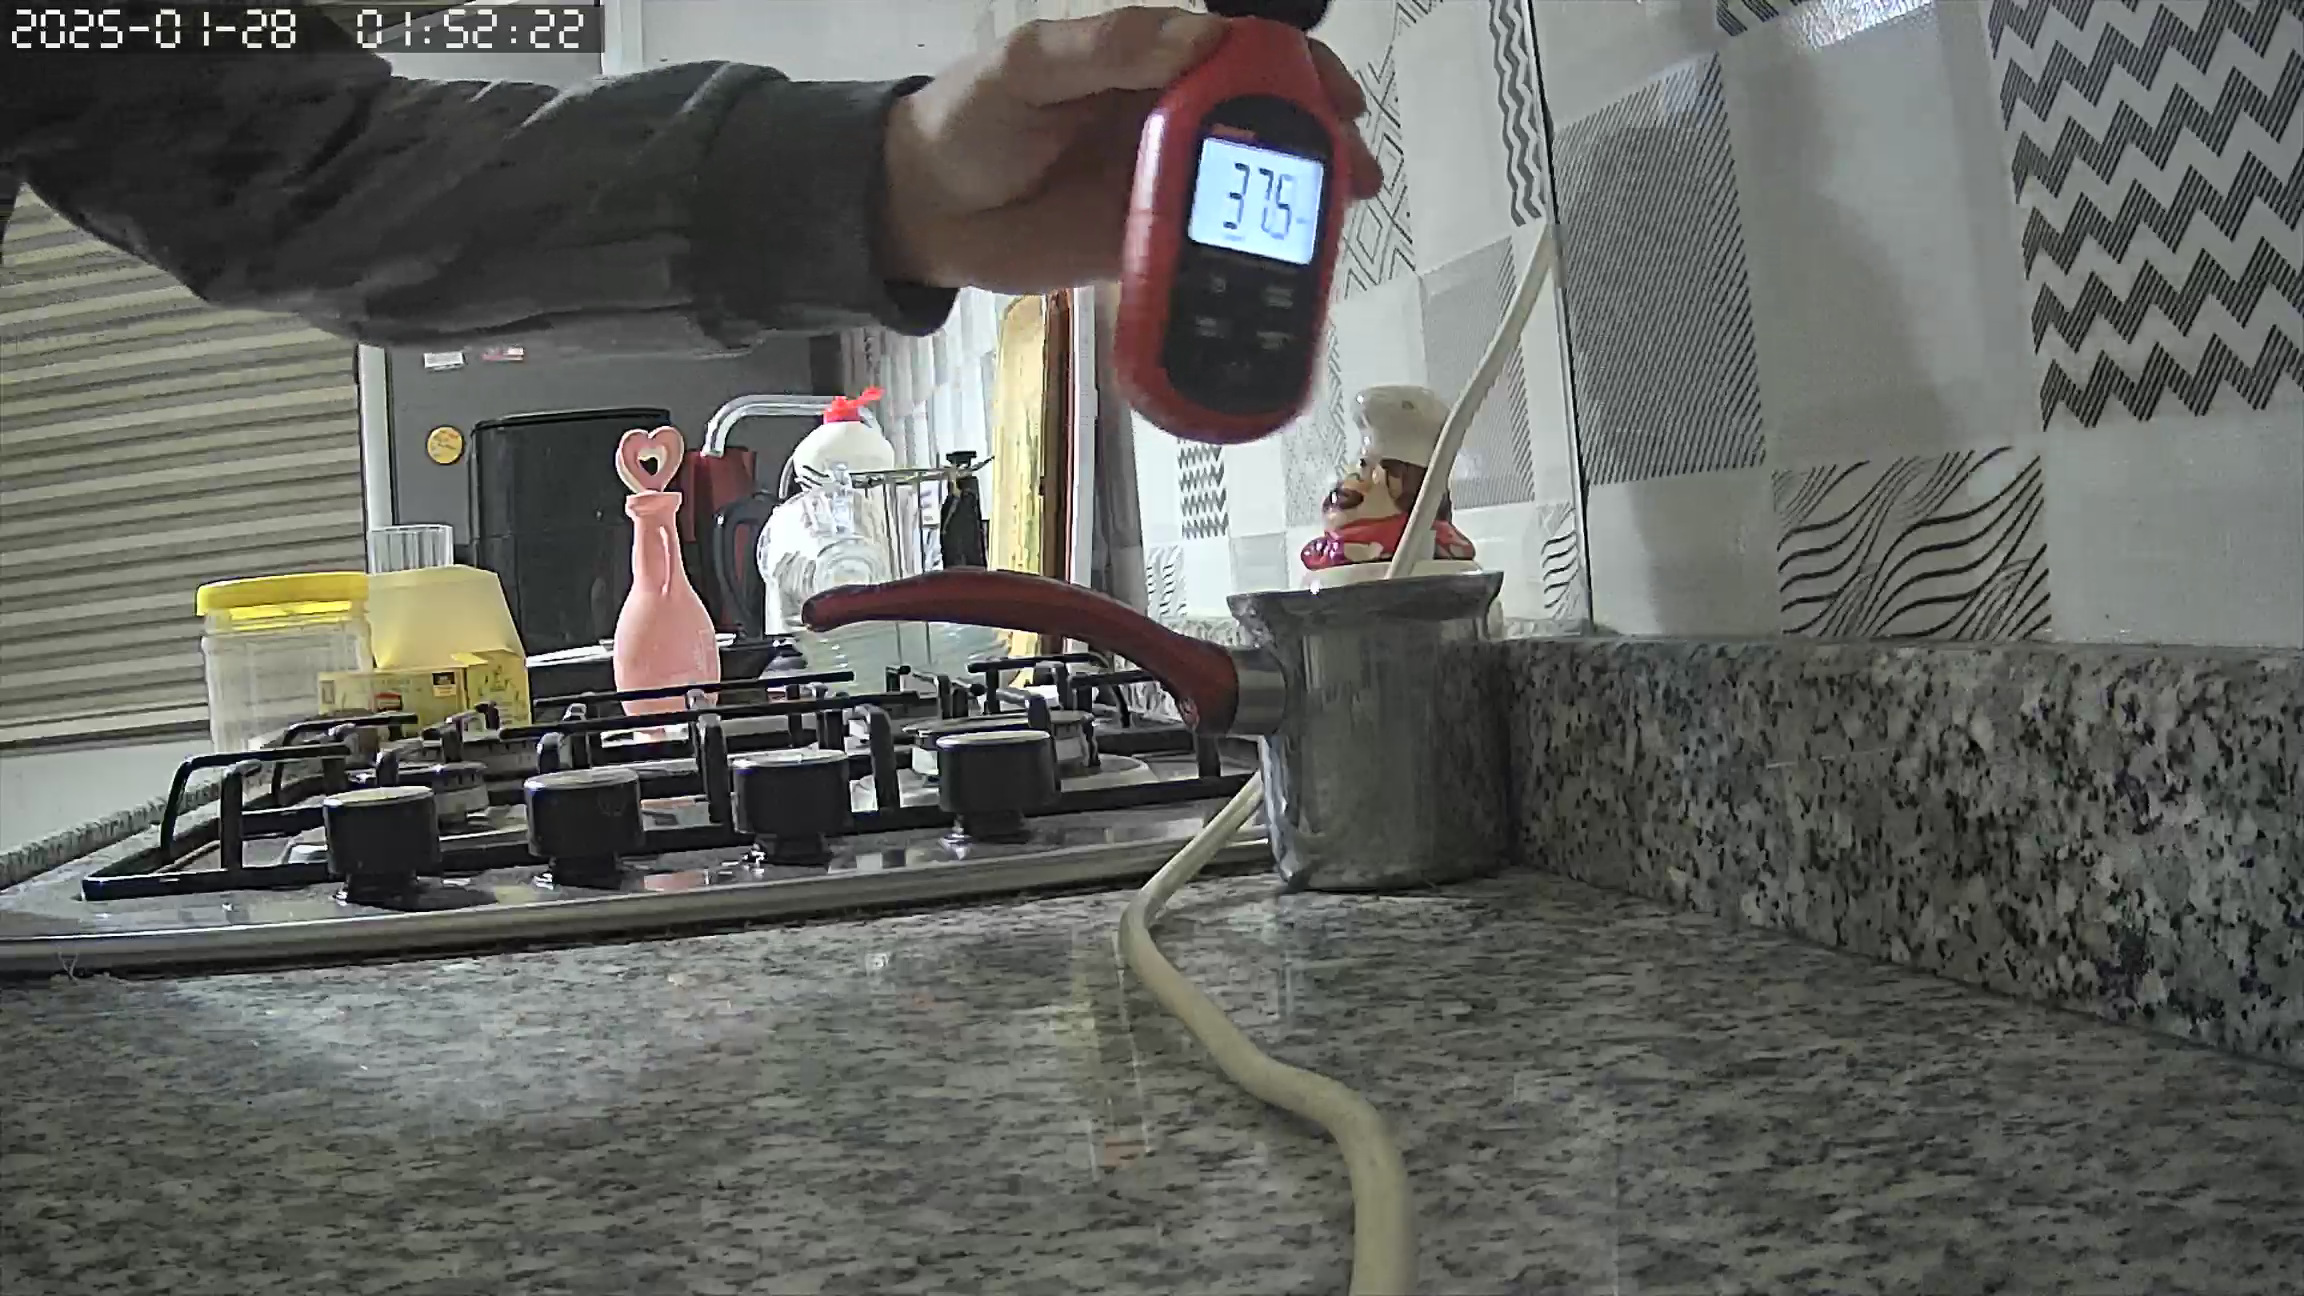screen: (1188, 138, 1326, 267)
